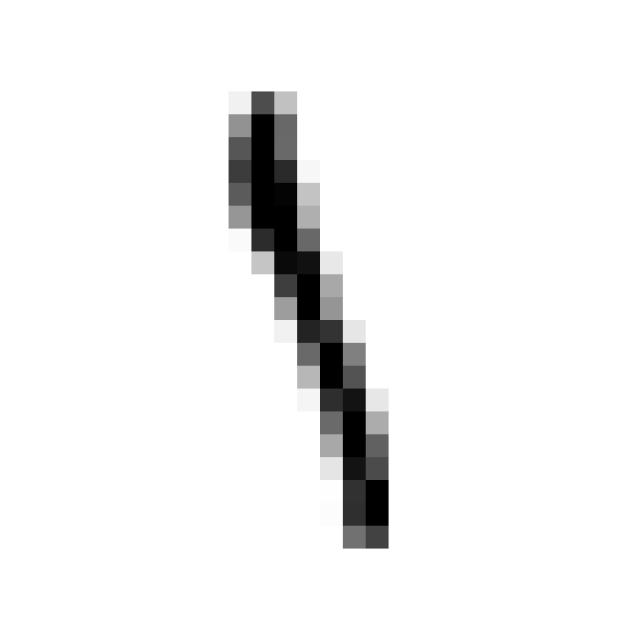1 -one-: (213, 76, 413, 566)
